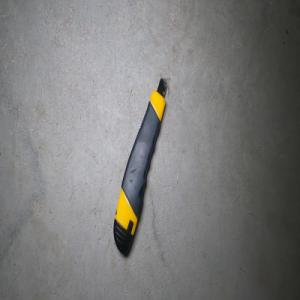Cutter: (113, 78, 168, 256)
